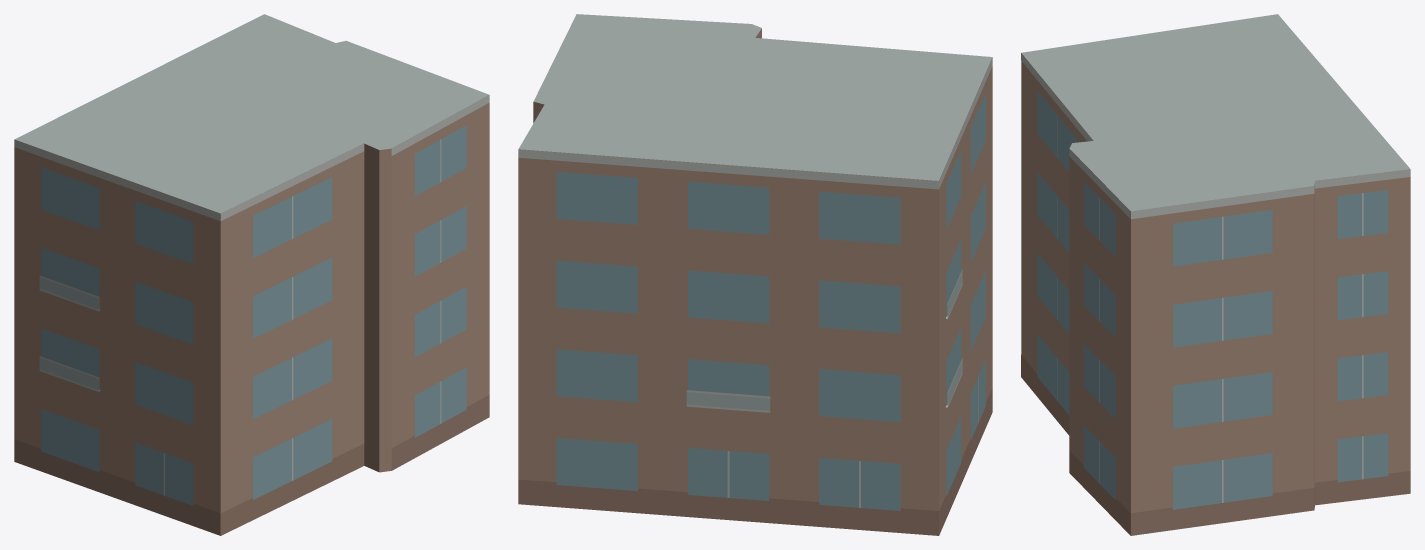
Rendered from survey-upis-32867712.glb.
3 renders of one model, left to right at view 1: azimuth 30°, elevation 25°; view 2: azimuth 150°, elevation 25°; view 3: azimuth 270°, elevation 25°, orthographic. The views are drawn at different scales.
Parts seen in each view (by area): view 1: survey-upis-32867712.tmp; view 2: survey-upis-32867712.tmp; view 3: survey-upis-32867712.tmp.
Part boxes in pixels (left/top/right/bottom): survey-upis-32867712.tmp: left=14, top=14, right=489, bottom=535; survey-upis-32867712.tmp: left=518, top=14, right=992, bottom=535; survey-upis-32867712.tmp: left=1021, top=14, right=1410, bottom=535.
Size of the model in its own units: 13.33 by 10.2 by 11.11.
